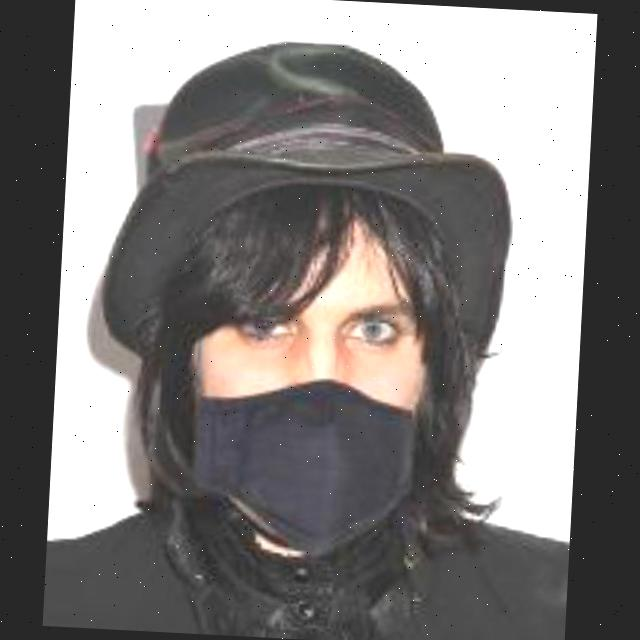suspicion: (162, 51, 514, 537)
